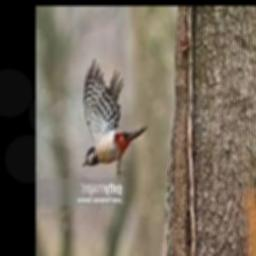Woodpecker: (82, 58, 147, 175)
